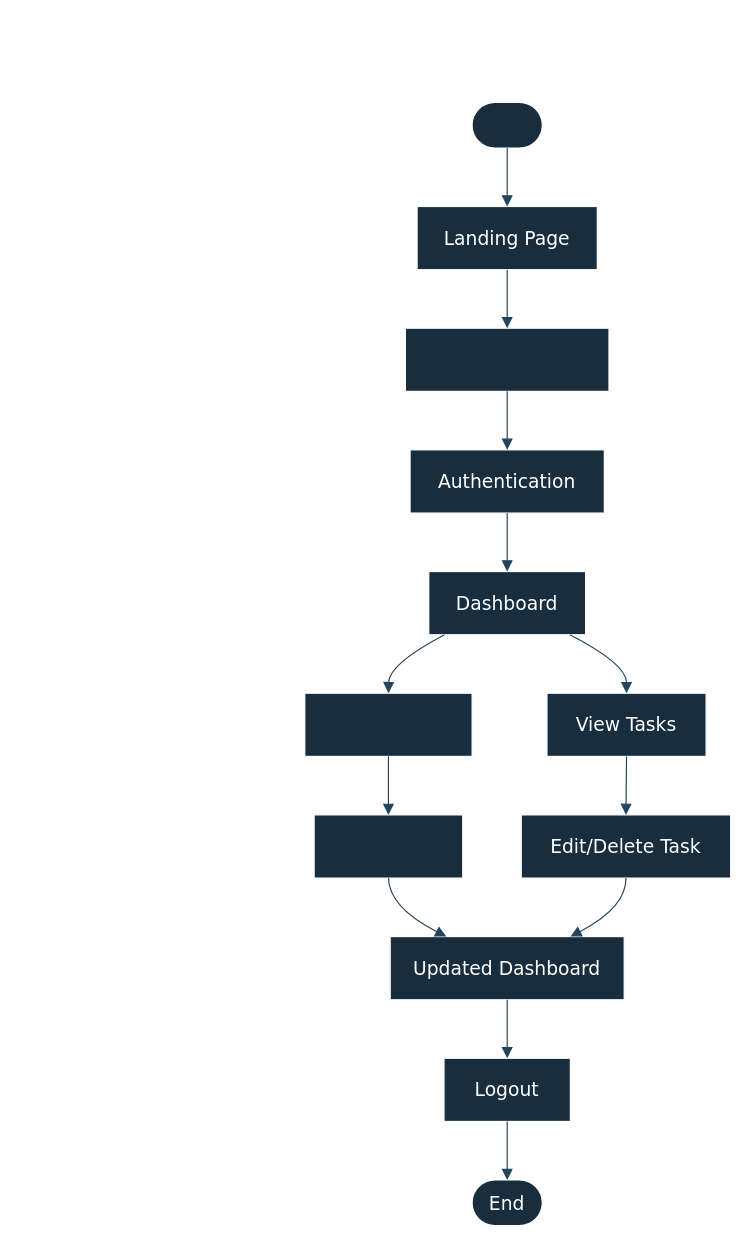
The diagram is 751 pixels wide and 1246 high, and some of its shapes have lost their labels. The box of each missing label's shape, as (x1, y1, x2, y2) in pixels:
Create Task: (304, 692, 472, 756)
Login / Register: (404, 327, 609, 391)
Save Task: (313, 814, 463, 878)
Start: (471, 101, 542, 148)
